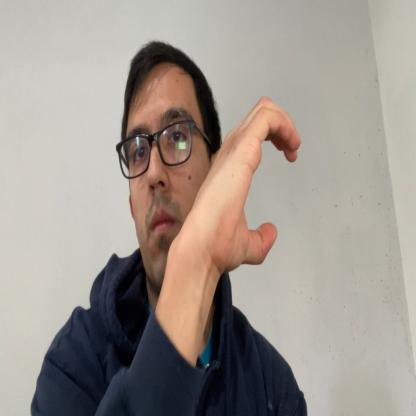C: (203, 96, 301, 272)
